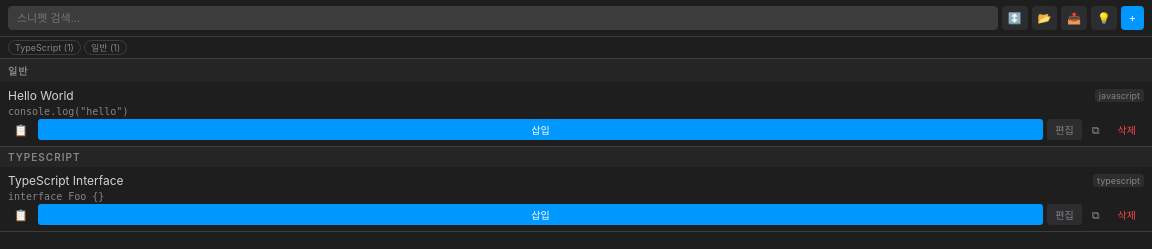
Test: SnippetPanel › 검색어 입력 시 이름/내용/카테고리로 필터링된다
expect the text "Hello World" is shown: met, box [8, 88, 74, 103]
Step 1. Type "Hello" into the field with placeholder "스니펫 검색..." → [503, 18], box [8, 6, 998, 30]
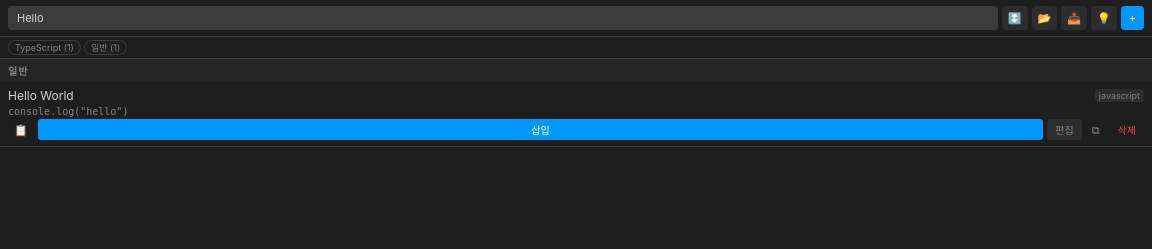
expect the text "Hello World" is shown: met, box [8, 88, 74, 103]
expect the text "TypeScript Interface" is gone: met
